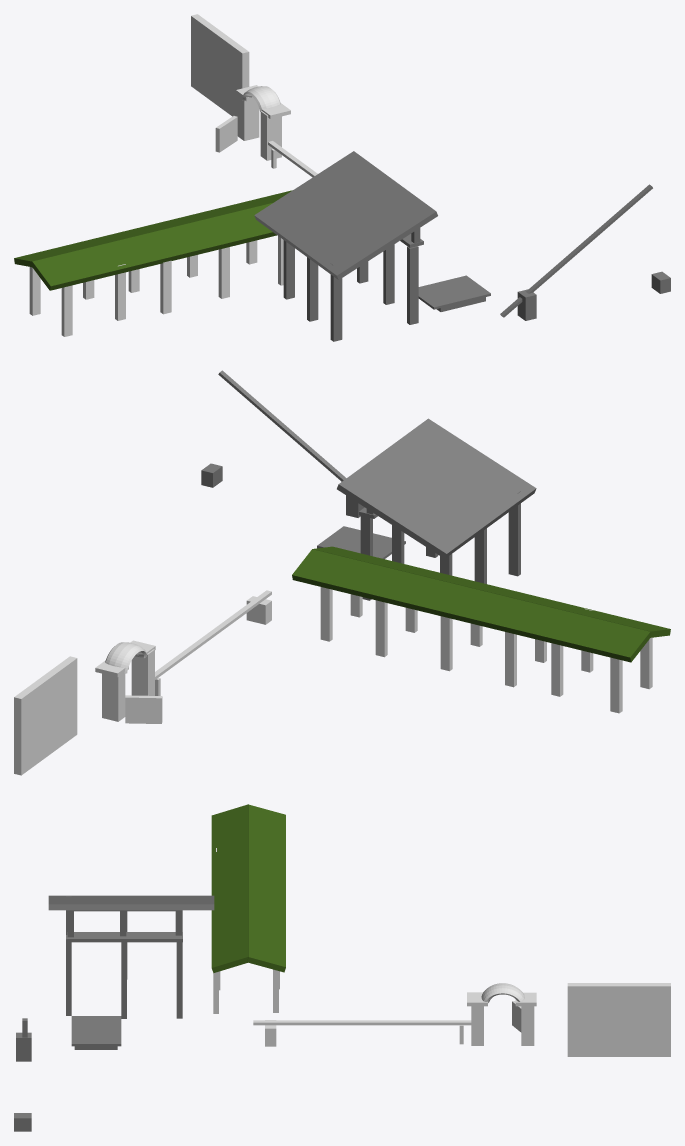
The model's file is Front_Harang_FIN.glb.
3 renders of one model, top to bottom at view 1: azimuth 30°, elevation 25°; view 2: azimuth 150°, elevation 25°; view 3: azimuth 270°, elevation 25°, orthographic. The views are drawn at different scales.
Parts seen in each view (by area): view 1: Cube.014, Cube.027, Cube.025, Cube.028, Cube.022, Cube.021, Cube.026, Cube.032, Cube.031, Cube.034, Torus, Cube.040 (+1 smaller); view 2: Cube.014, Cube.028, Cube.025, Cube.027, Cube.026, Cube.022, Cube.019, Cube.021, Torus, Cube.036, Cube.040, Cube.037 (+3 smaller); view 3: Cube.014, Cube.025, Cube.027, Cube.028, Cube.019, Cube.022, Torus, Cube.021.
Part boxes in pixels (box(x1,y1,x2,y2)): Cube.014: box(254, 151, 670, 341); Cube.027: box(31, 202, 276, 290); Cube.025: box(191, 14, 249, 116); Cube.028: box(14, 190, 292, 267); Cube.022: box(237, 95, 259, 140); Cube.021: box(260, 111, 281, 160); Cube.026: box(215, 116, 237, 152); Cube.032: box(160, 260, 171, 314); Cube.031: box(218, 247, 229, 298); Cube.034: box(61, 285, 72, 336); Torus: box(242, 86, 280, 111); Cube.040: box(29, 267, 40, 315); Cube.014: box(201, 370, 536, 600); Cube.028: box(292, 549, 650, 662); Cube.025: box(14, 656, 77, 775); Cube.027: box(312, 546, 670, 637); Cube.026: box(125, 695, 162, 723); Cube.022: box(102, 673, 125, 721); Cube.019: box(155, 590, 271, 679); Cube.021: box(131, 649, 154, 695); Torus: box(105, 642, 146, 673); Cube.036: box(375, 600, 387, 657); Cube.040: box(610, 657, 622, 713); Cube.037: box(440, 616, 452, 671); Cube.014: box(14, 895, 214, 1131); Cube.025: box(567, 983, 670, 1056); Cube.027: box(211, 804, 248, 973); Cube.028: box(247, 804, 285, 972); Cube.019: box(253, 1020, 471, 1025); Cube.022: box(521, 1006, 534, 1045); Torus: box(481, 983, 524, 1002); Cube.021: box(471, 1006, 483, 1045).
Bounding box in the file's own units: 40.82 × 9.01 × 44.34.
